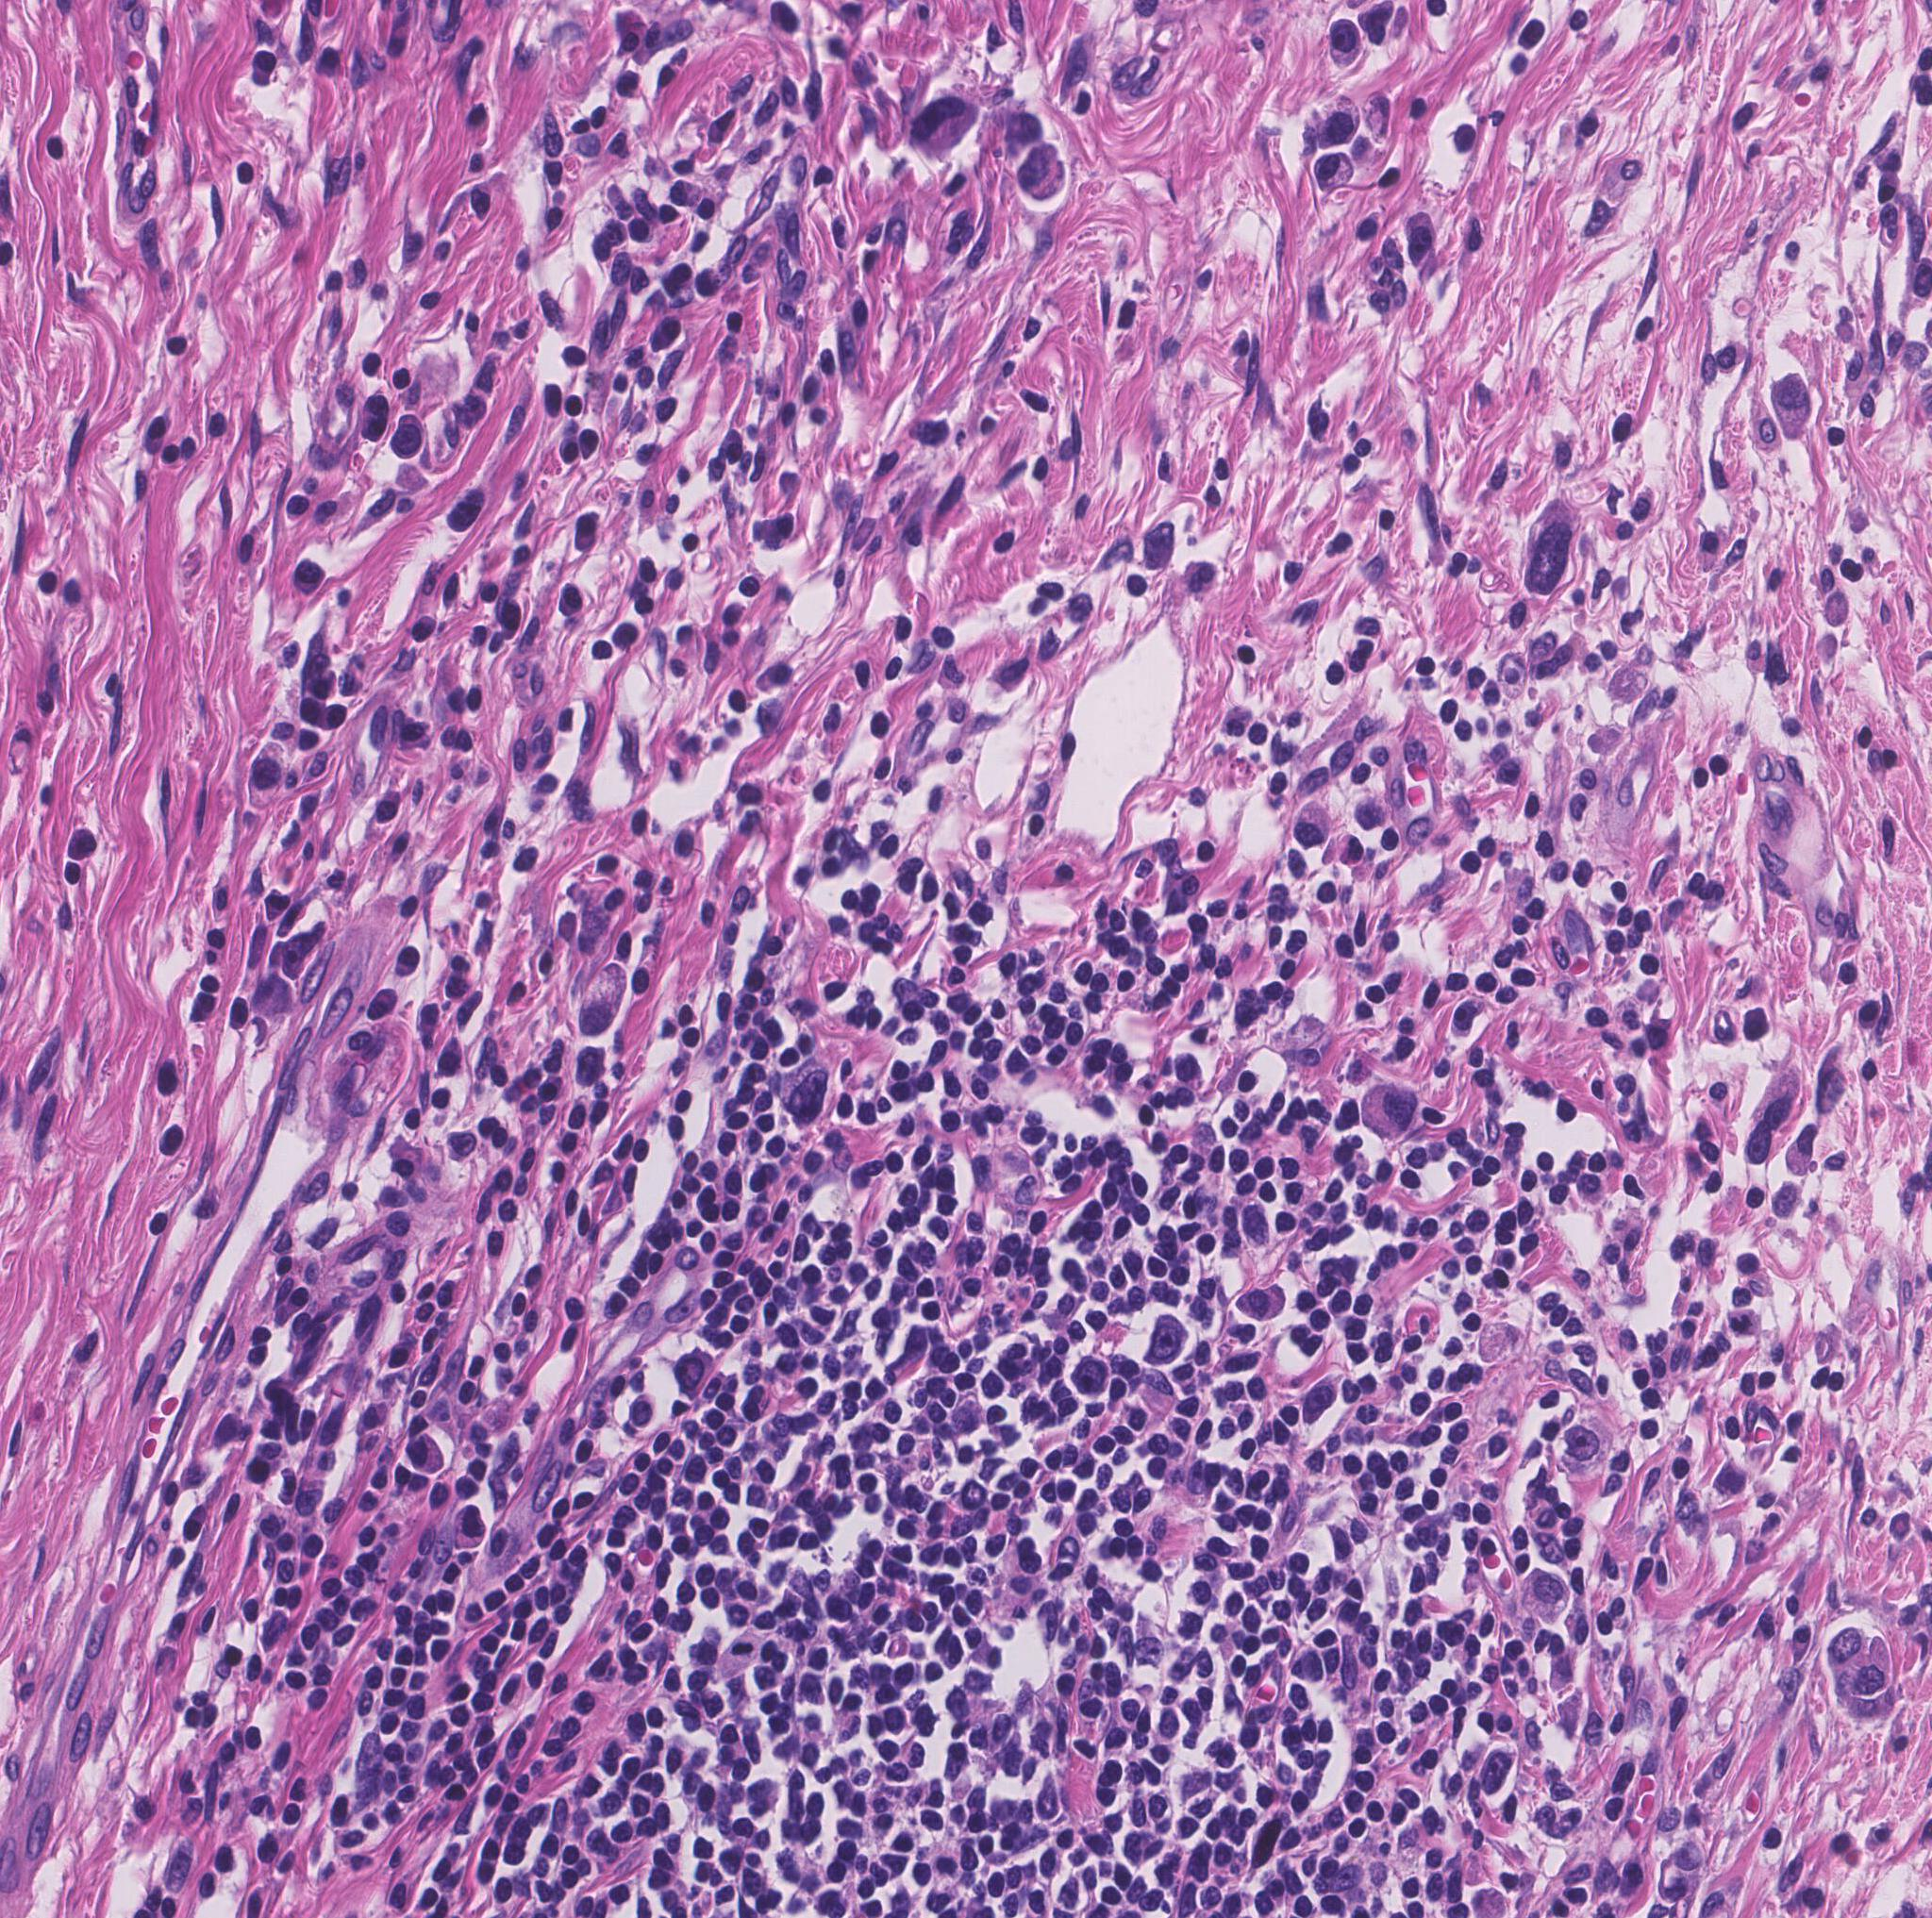ring_cell_cancer: (1516, 499, 1584, 597), (906, 88, 982, 162), (573, 957, 632, 1036), (1549, 1410, 1614, 1481), (1834, 1658, 1904, 1721), (773, 1057, 836, 1126), (1769, 371, 1820, 446), (1516, 1565, 1577, 1621), (1361, 1082, 1419, 1140), (1015, 146, 1070, 202), (1308, 98, 1366, 151), (1321, 16, 1368, 70), (1238, 1279, 1287, 1326), (1823, 1623, 1871, 1670), (1293, 801, 1338, 850), (1314, 151, 1358, 195), (451, 1505, 490, 1554), (1356, 792, 1396, 838), (406, 1435, 448, 1475)
